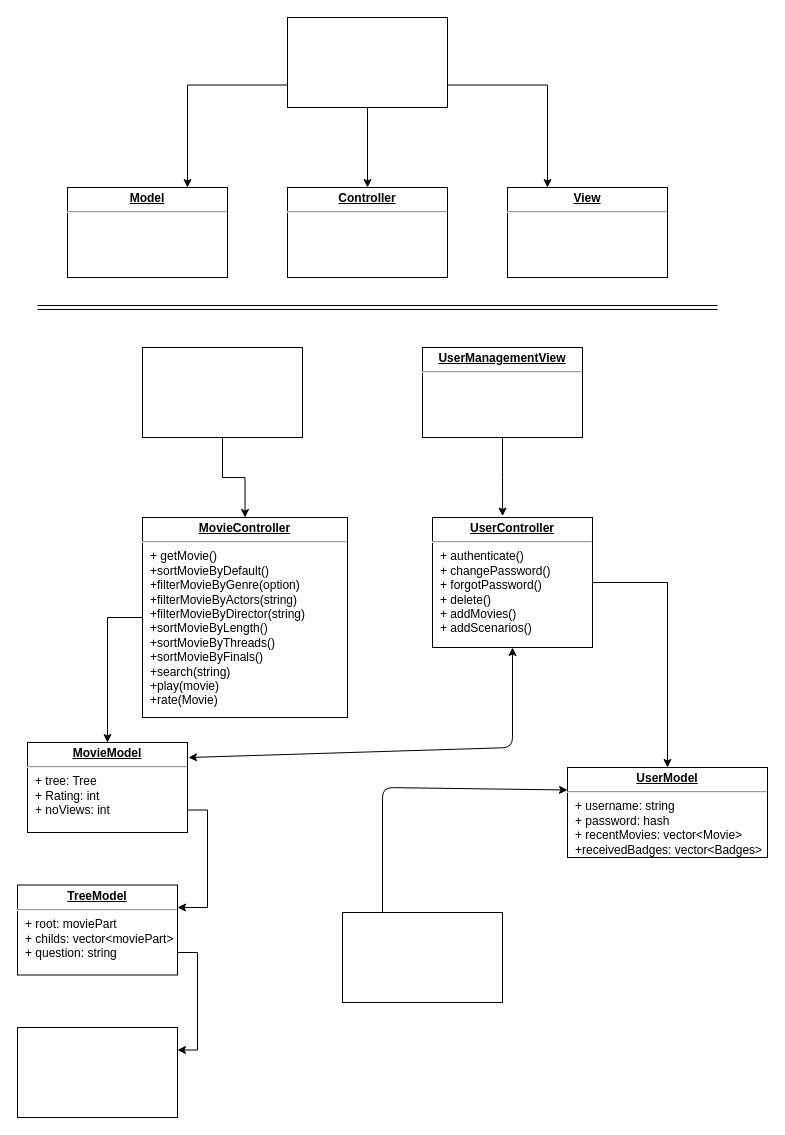
The diagram is 785 pixels wide and 1135 high, and some of its shapes have lost their labels. Each missing label, with the centre of its shape:
Application: the point at 367,62
BadgeModel + id_badge: int + name: string + image: BLOB: the point at 422,957
MoviePartModel + ytURL: string + localPath: string + answer: string: the point at 97,1072
MovieView: the point at 222,392
